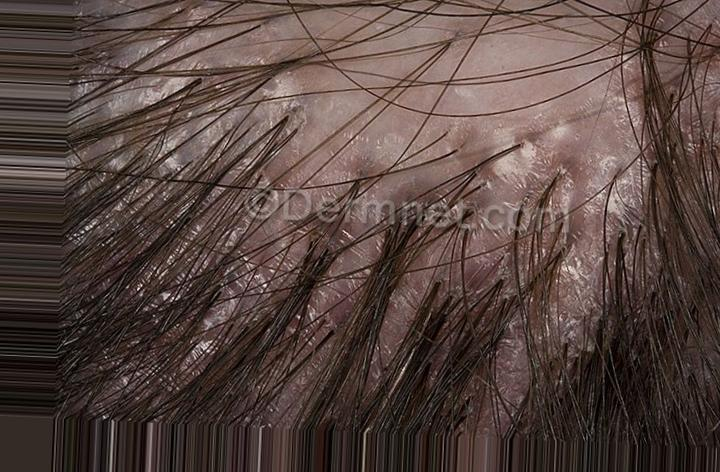Folliculitis: (246, 21, 624, 270)
